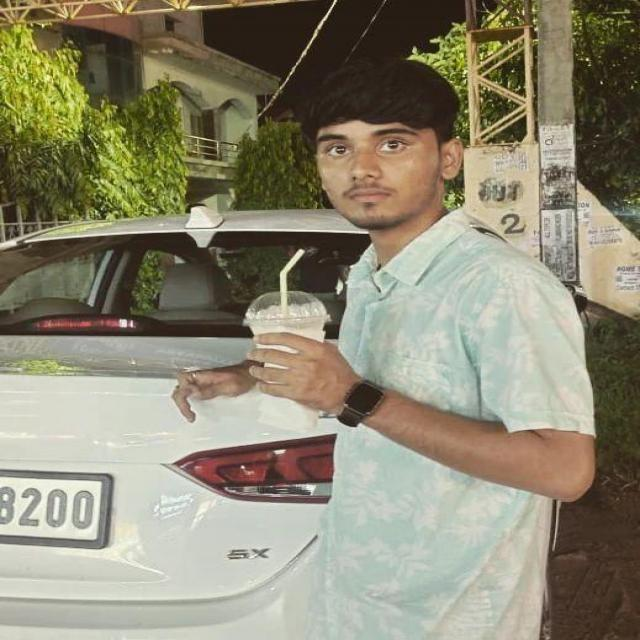cup-disposable: (244, 284, 331, 390)
